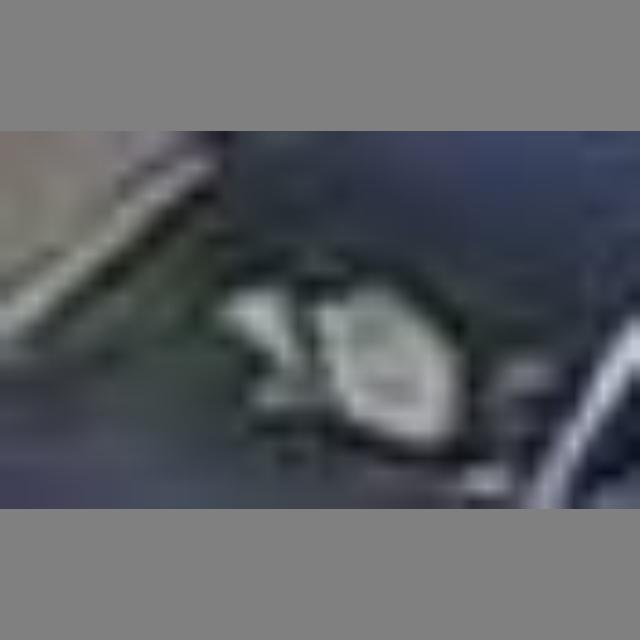pakai: (189, 233, 436, 451)
